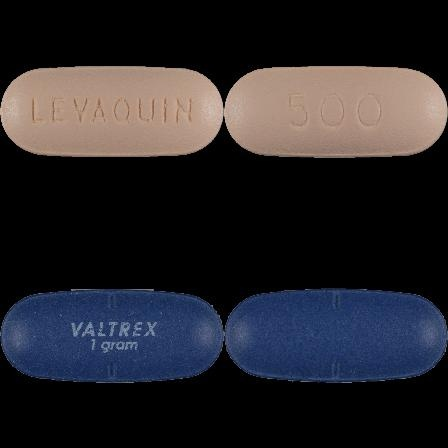63629-3981: (0, 0, 224, 224)
